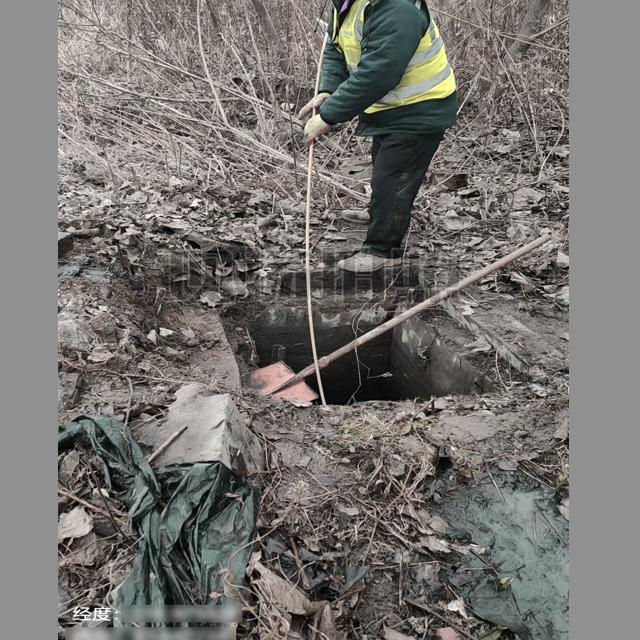lose: (210, 298, 534, 413)
